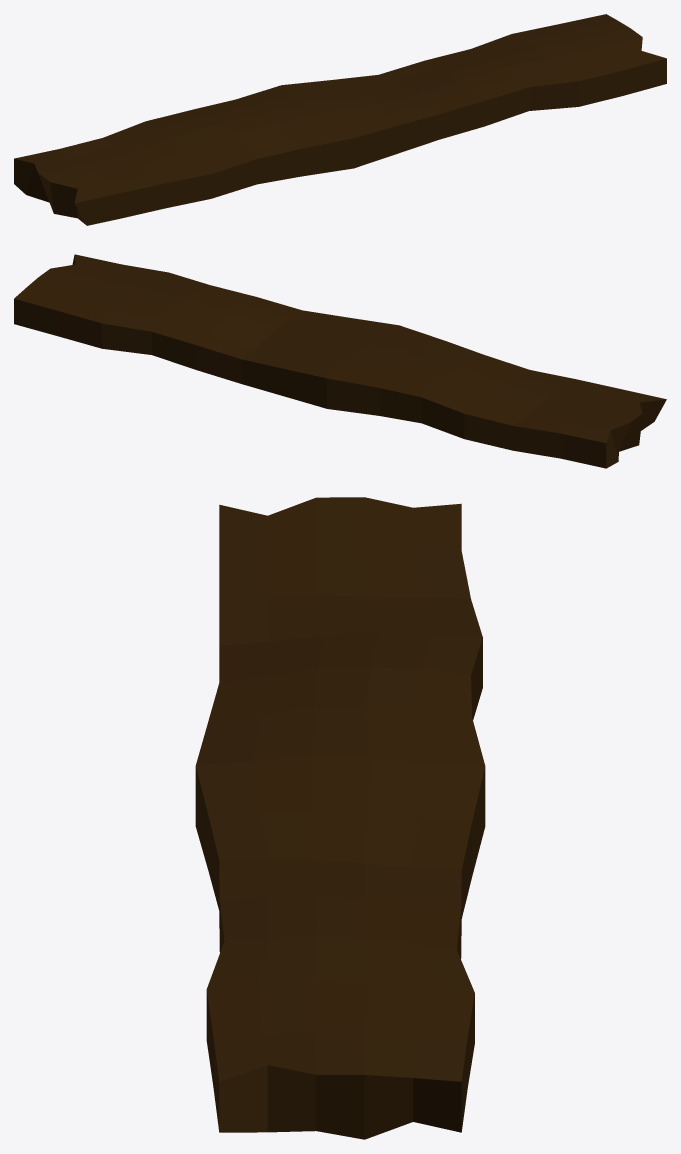
File: Plank1.glb
3 renders of one model, top to bottom at view 1: azimuth 30°, elevation 25°; view 2: azimuth 150°, elevation 25°; view 3: azimuth 270°, elevation 25°, orthographic. The views are drawn at different scales.
Parts seen in each view (by area): view 1: Plank_1; view 2: Plank_1; view 3: Plank_1.
Part boxes in pixels (x1,y1,x2,y2): Plank_1: (14,14,666,225); Plank_1: (14,254,666,468); Plank_1: (195,497,485,1139).
Bounding box in the file's own units: 1.38 × 0.0919 × 0.2931.
